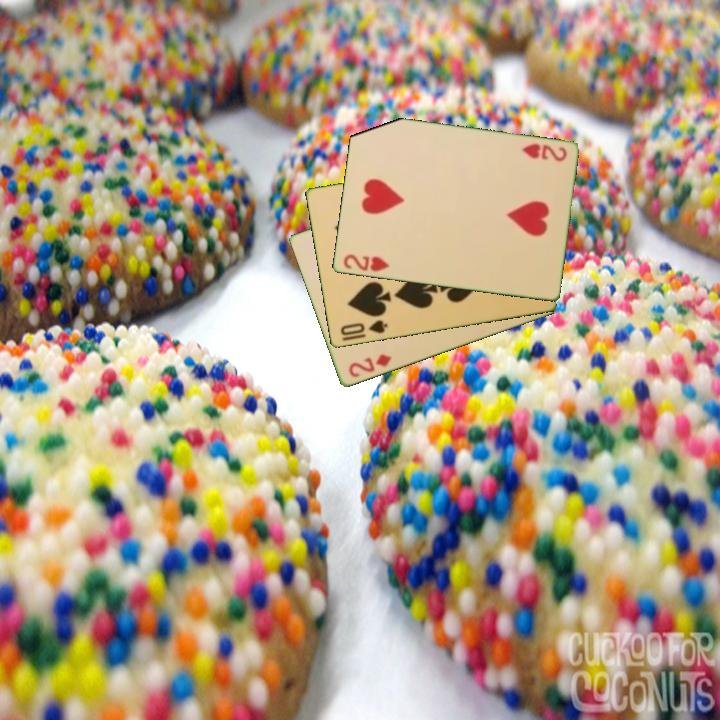10s: (337, 317, 390, 339)
2d: (345, 351, 394, 381)
2h: (339, 251, 392, 275), (518, 140, 569, 164)
